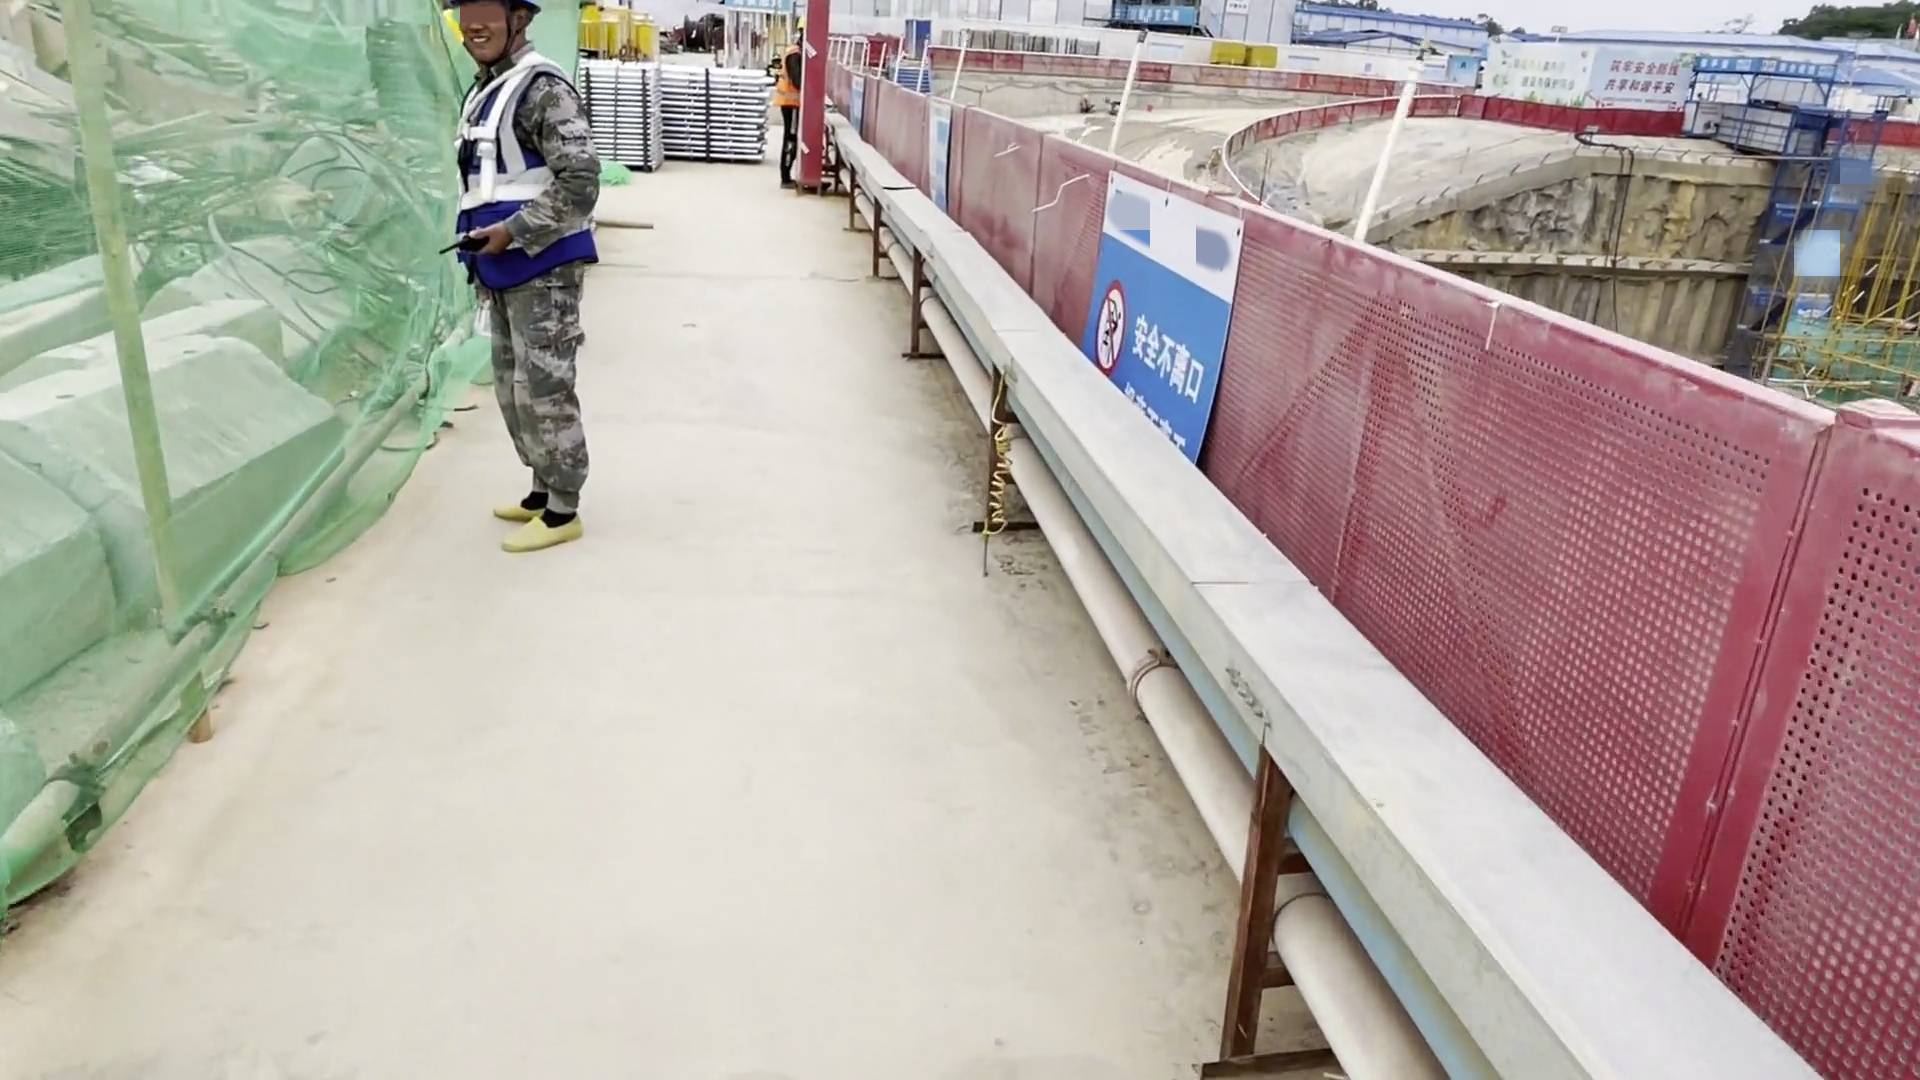person: (443, 1, 613, 554)
scaffold: (562, 41, 812, 176)
slogan: (1473, 14, 1712, 133)
vest: (450, 53, 623, 299), (770, 56, 806, 112)
